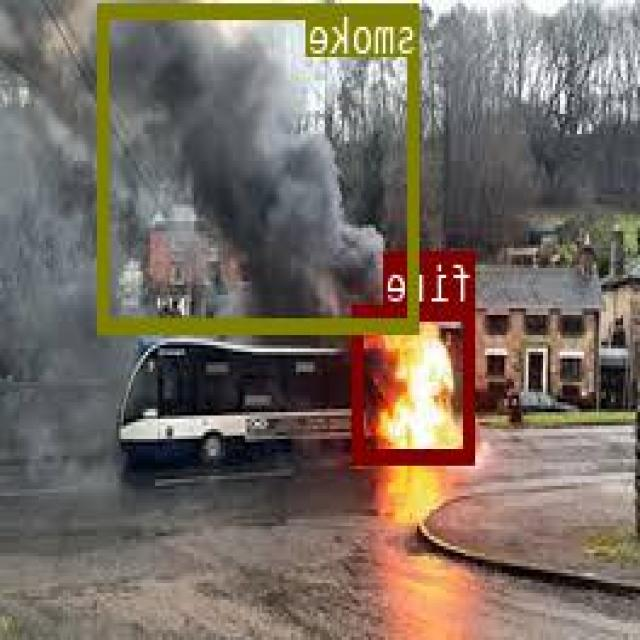fire: (356, 302, 477, 460)
smoke: (102, 3, 420, 330)
